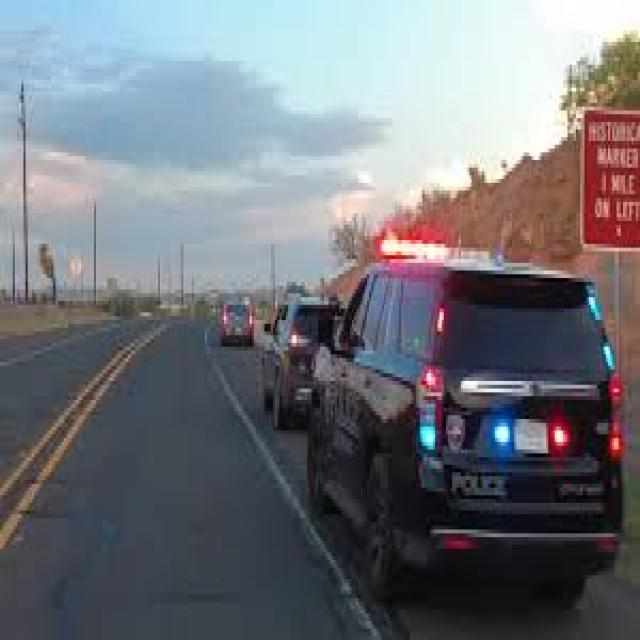cop: (304, 235, 628, 617)
